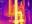Hotspot: (14, 0, 18, 24), (18, 11, 24, 23), (8, 0, 12, 15)
